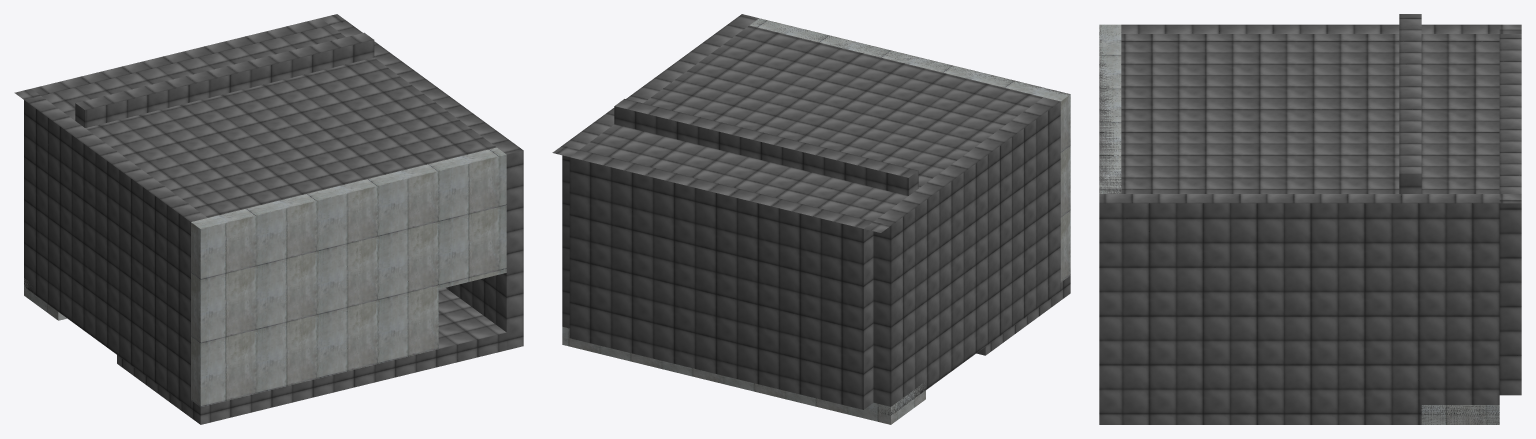
Rendered from Level_20.fbx.
3 views of the same model, side by side, from view 1: azimuth 30°, elevation 25°; view 2: azimuth 150°, elevation 25°; view 3: azimuth 270°, elevation 25° (orthographic). The views are drawn at different scales.
Visible parts, largest first — view 1: NoTeleport.009, Wall.010; view 2: NoTeleport.009, Wall.010; view 3: NoTeleport.009, Wall.010.
Boxes of the visible parts, x1,y1,x2,y2 form: NoTeleport.009: (14, 14, 523, 424); Wall.010: (24, 147, 506, 406); NoTeleport.009: (552, 14, 1070, 415); Wall.010: (562, 18, 1070, 424); NoTeleport.009: (1099, 14, 1521, 424); Wall.010: (1099, 24, 1499, 424).
Bounding box in the file's own units: 19 × 19 × 12.
